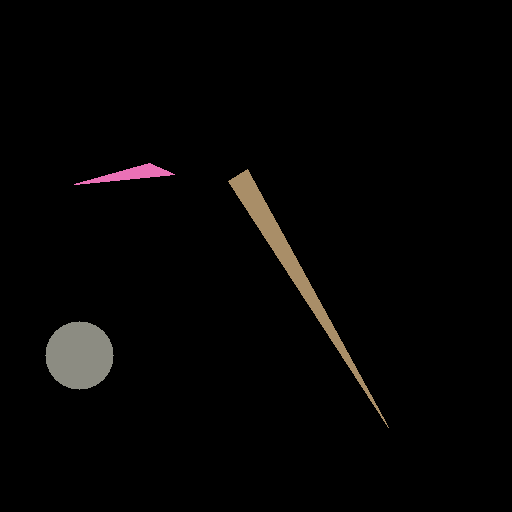circle: (45, 321, 113, 389)
triangle: (229, 170, 388, 427), (74, 163, 174, 184)
